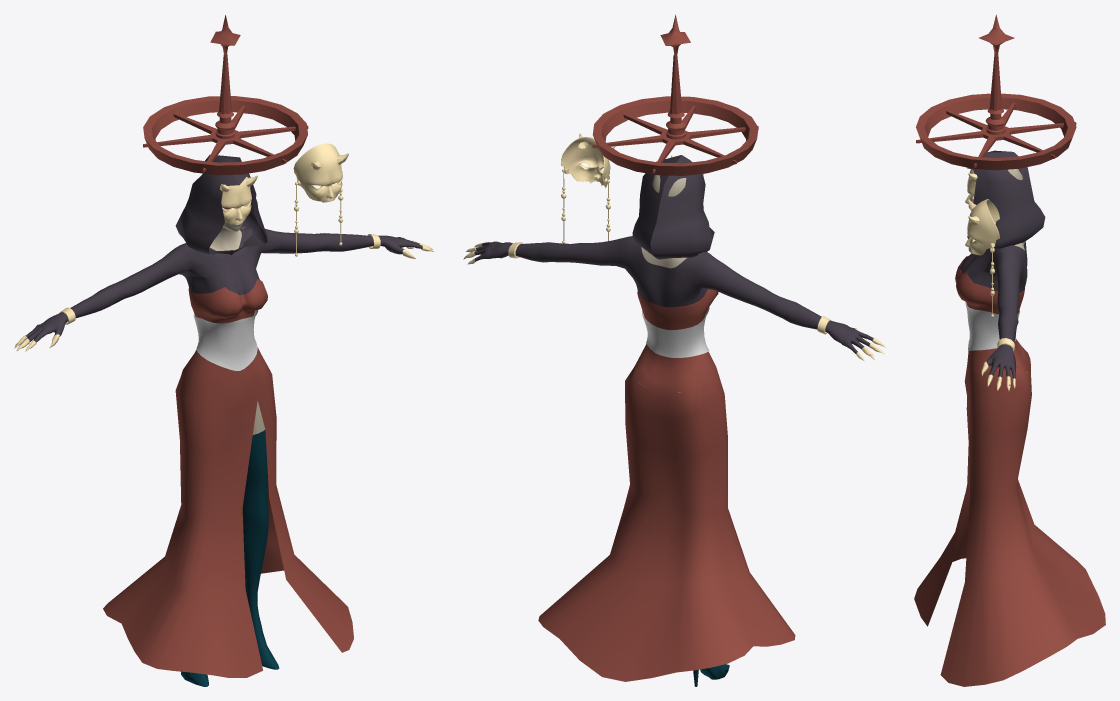
Rendered from LOKI_week13.fbx.
3 renders of one model, left to right at view 1: azimuth 30°, elevation 25°; view 2: azimuth 150°, elevation 25°; view 3: azimuth 270°, elevation 25°, orthographic. The views are drawn at different scales.
Visible parts, largest first — view 1: dress, clothes, pCylinder1, heels, hood, dress1, mask1, pCylinder2, mask, pCube5, Body_deleted2; view 2: dress, clothes, hood, pCylinder1, pCylinder2, dress1, mask1, pCube5, Body_deleted2; view 3: dress, pCylinder1, clothes, hood, pCylinder2, mask1, dress1, pCube5, pCube6.
Boxes of the visible parts, x1,y1,x2,y2 form: dress: [103, 279, 353, 677]; clothes: [25, 227, 422, 342]; pCylinder1: [143, 96, 307, 175]; heels: [181, 430, 279, 686]; hood: [175, 154, 267, 254]; dress1: [193, 310, 258, 370]; mask1: [293, 143, 348, 202]; pCylinder2: [143, 105, 308, 172]; mask: [220, 175, 257, 224]; pCube5: [215, 54, 235, 138]; Body_deleted2: [202, 173, 265, 434]; dress: [538, 289, 795, 681]; clothes: [466, 236, 873, 355]; hood: [632, 155, 714, 259]; pCylinder1: [592, 96, 758, 175]; pCylinder2: [592, 106, 758, 173]; dress1: [642, 307, 709, 358]; mask1: [561, 133, 614, 188]; pCube5: [666, 55, 686, 139]; Body_deleted2: [638, 174, 686, 392]; dress: [914, 256, 1105, 686]; pCylinder1: [916, 93, 1076, 170]; clothes: [960, 241, 1027, 385]; hood: [967, 150, 1045, 248]; pCylinder2: [916, 102, 1076, 167]; mask1: [965, 199, 999, 255]; dress1: [965, 301, 1019, 350]; pCube5: [985, 53, 1005, 134]; pCube6: [979, 14, 1014, 53].
Size of the model in its own units: 50.49 by 75.54 by 20.78.
